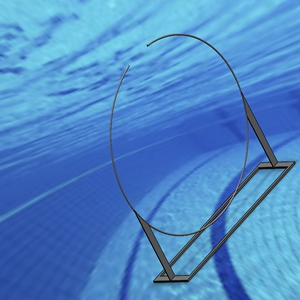circle: (107, 32, 295, 281)
